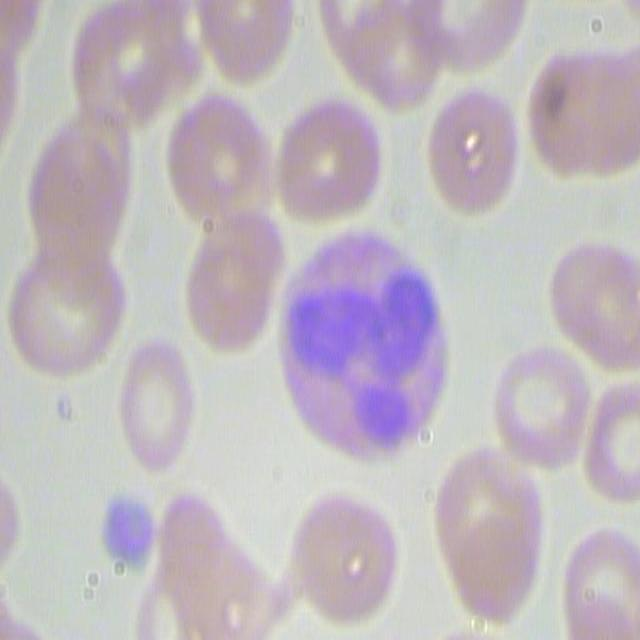RBC: (142, 485, 278, 639), (428, 441, 541, 619), (21, 98, 129, 253), (522, 46, 638, 188), (265, 95, 387, 228), (282, 488, 400, 625), (5, 244, 126, 376), (316, 0, 446, 117), (163, 89, 275, 224), (68, 0, 189, 124), (182, 211, 283, 355), (490, 339, 596, 475), (426, 82, 518, 219), (550, 237, 640, 376), (117, 337, 198, 471), (557, 521, 640, 638), (185, 0, 299, 84), (411, 0, 532, 71), (577, 376, 640, 506)
WBC: (284, 213, 454, 470)
platelets: (95, 482, 157, 583)
